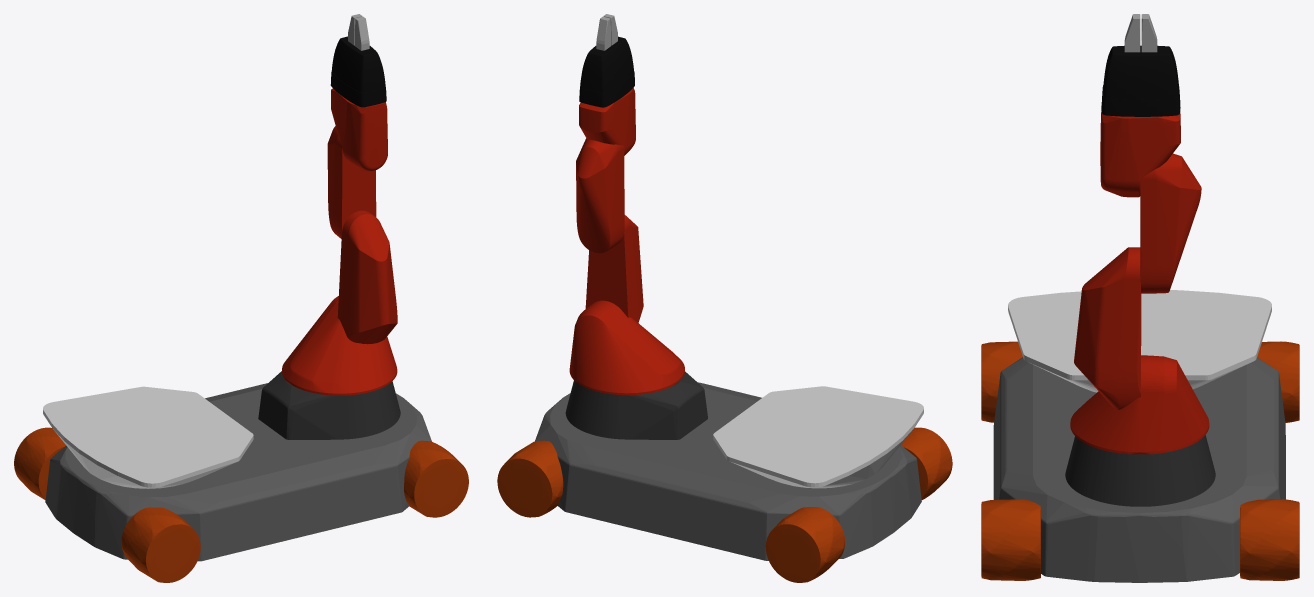
Rendered from kuka-youbot.dae.
3 renders of one model, left to right at view 1: azimuth 30°, elevation 25°; view 2: azimuth 150°, elevation 25°; view 3: azimuth 270°, elevation 25°, orthographic. The views are drawn at different scales.
Visible parts, largest first — view 1: base (×4), arm2_link, arm1_link, arm4_link, arm3_link, gripper_link (×2); view 2: base (×4), arm1_link, arm3_link, arm2_link, gripper_link (×2), arm4_link; view 3: base (×4), arm1_link, arm2_link, arm3_link, arm4_link, gripper_link (×2), gripper1_link, gripper0_link.
Part boxes in pixels (x1,y1,x2,y2): base (×4): [14, 371, 468, 582]; arm2_link: [337, 210, 397, 344]; arm1_link: [282, 296, 397, 395]; arm4_link: [331, 88, 387, 171]; arm3_link: [327, 126, 376, 238]; gripper_link (×2): [330, 36, 386, 107]; base (×4): [497, 371, 952, 582]; arm1_link: [569, 300, 684, 395]; arm3_link: [576, 138, 624, 253]; arm2_link: [585, 215, 643, 322]; gripper_link (×2): [579, 36, 634, 107]; arm4_link: [579, 88, 635, 155]; base (×4): [981, 290, 1299, 582]; arm1_link: [1070, 355, 1209, 454]; arm2_link: [1074, 247, 1141, 409]; arm3_link: [1140, 153, 1201, 293]; arm4_link: [1100, 106, 1180, 197]; gripper_link (×2): [1101, 45, 1180, 116]; gripper1_link: [1141, 14, 1157, 52]; gripper0_link: [1124, 14, 1140, 52].
Size of the model in its own units: 0.5701 by 0.3891 by 0.7427.
